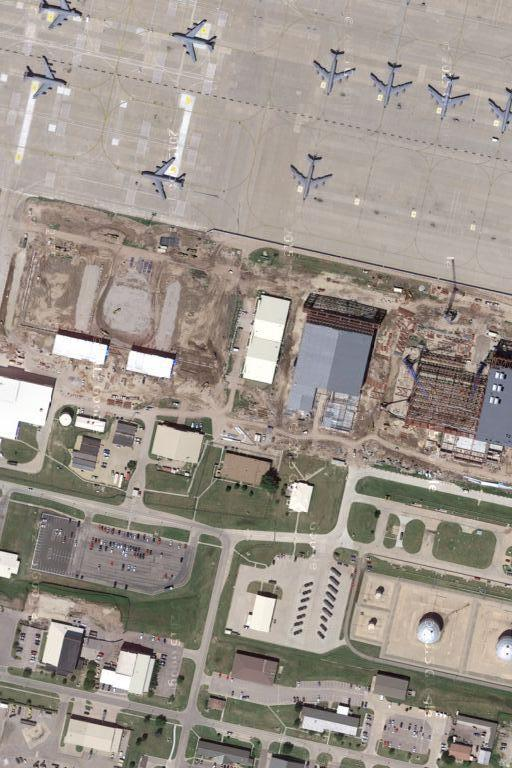KC-135: (309, 43, 358, 99), (288, 149, 334, 206), (168, 15, 219, 65), (367, 58, 414, 112), (21, 51, 69, 102), (137, 155, 186, 202), (426, 72, 472, 117), (486, 83, 511, 142), (36, 3, 85, 33)
